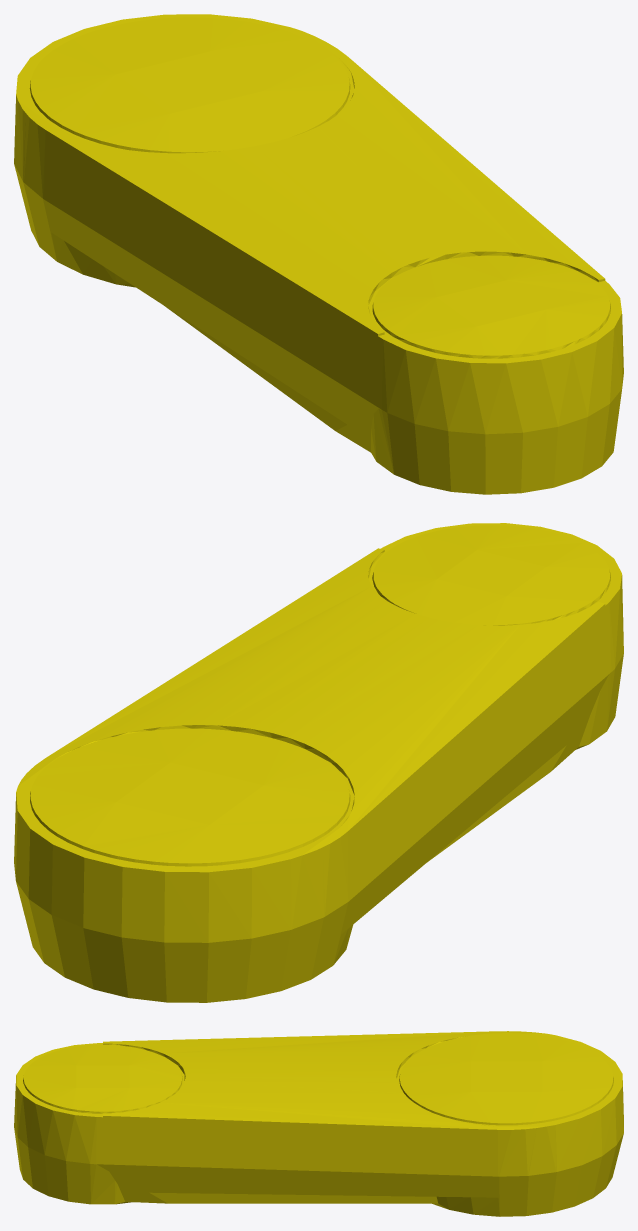
Rendered from arm_link.dae.
3 renders of one model, top to bottom at view 1: azimuth 30°, elevation 25°; view 2: azimuth 150°, elevation 25°; view 3: azimuth 270°, elevation 25°, orthographic. The views are drawn at different scales.
Visible parts, largest first — view 1: node; view 2: node; view 3: node.
Part boxes in pixels (left/top/right/bottom): node: left=14, top=14, right=623, bottom=494; node: left=14, top=523, right=623, bottom=1002; node: left=14, top=1031, right=623, bottom=1216.
Bounding box in the file's own units: 0.4973 × 0.2215 × 1.28.
